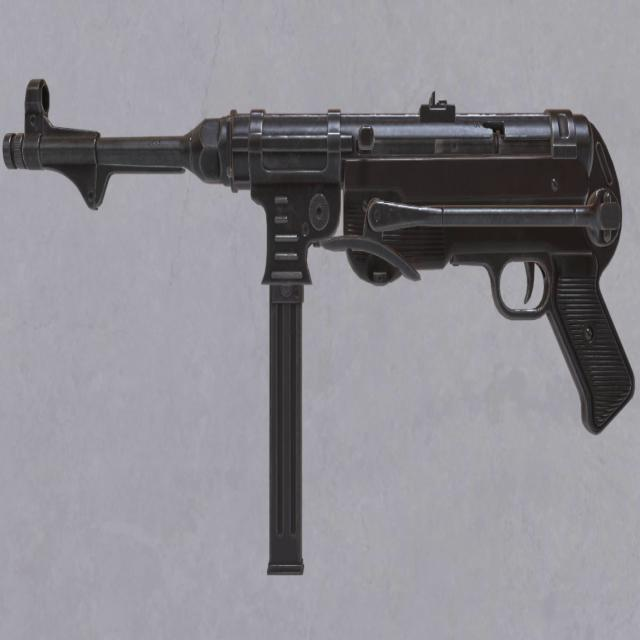SMG: (1, 78, 639, 579)
